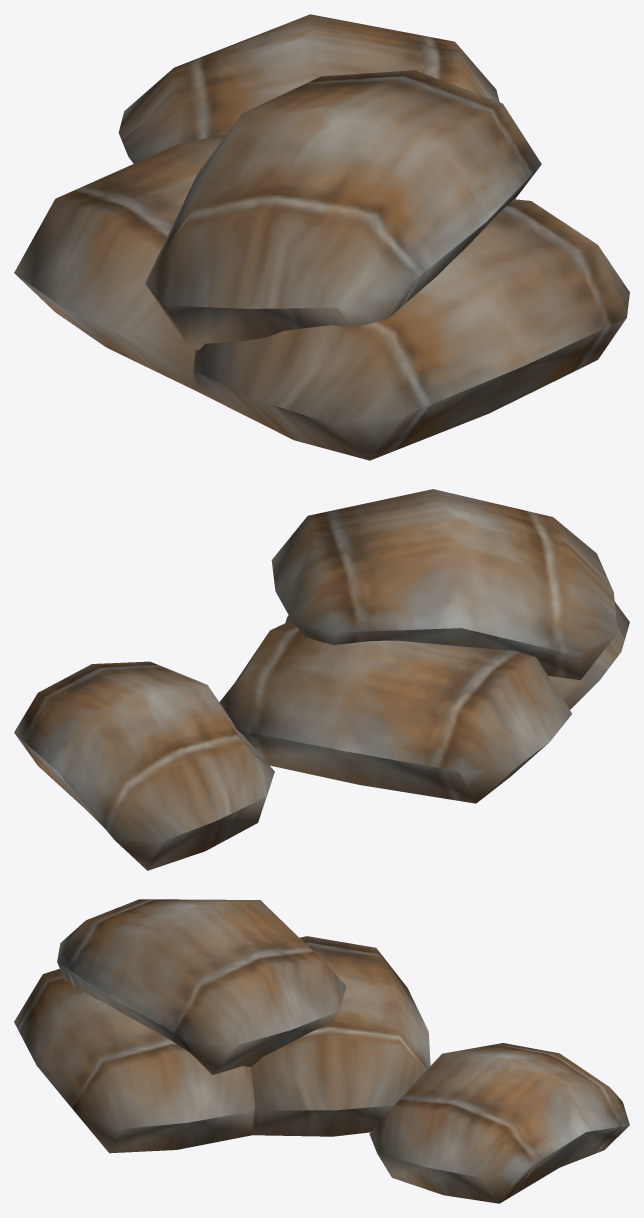
File: snow_a_r10.fbx
3 views of the same model, one above another, from view 1: azimuth 30°, elevation 25°; view 2: azimuth 150°, elevation 25°; view 3: azimuth 270°, elevation 25° (orthographic). The views are drawn at different scales.
Parts seen in each view (by area): view 1: snow_a_r10; view 2: snow_a_r10; view 3: snow_a_r10.
Boxes of the visible parts, x1=… form: snow_a_r10: x1=14, y1=14, x2=629, y2=460; snow_a_r10: x1=14, y1=489, x2=629, y2=870; snow_a_r10: x1=14, y1=899, x2=629, y2=1203.
Bounding box in the file's own units: 220 × 109 × 292.
